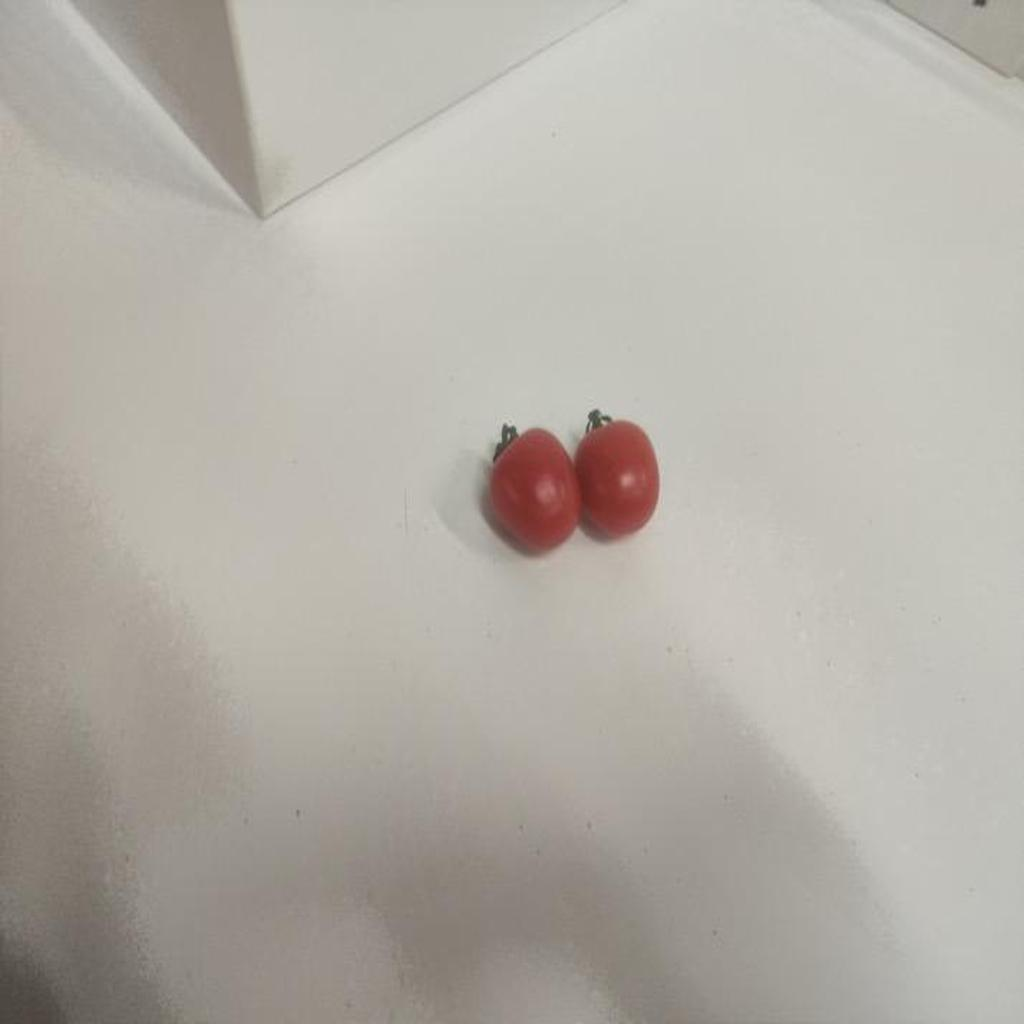tomato: (480, 417, 584, 561), (568, 406, 673, 545)
